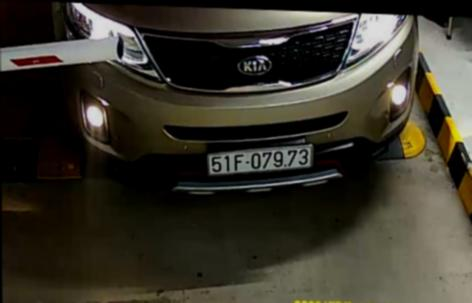License_Plate: (201, 139, 316, 180)
